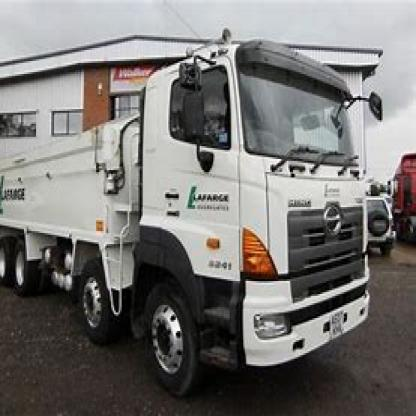dump_truck: (16, 33, 371, 392)
